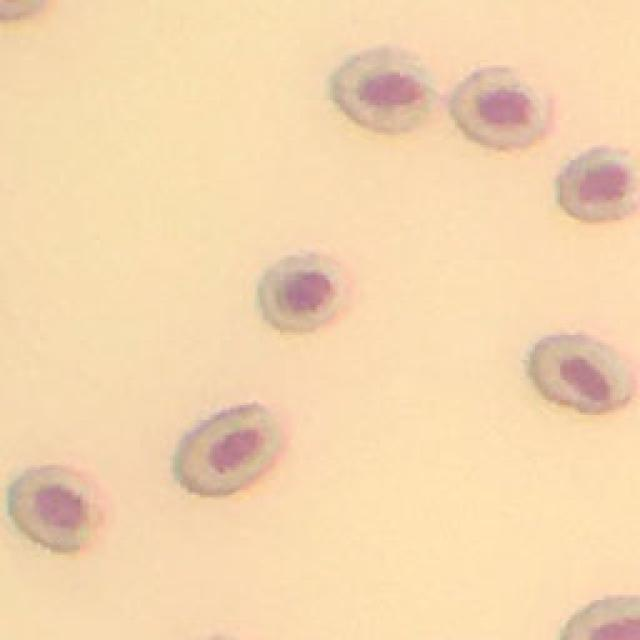RBC: (171, 408, 279, 496), (334, 43, 437, 135), (13, 466, 111, 549), (454, 68, 554, 149), (530, 335, 629, 412), (259, 254, 351, 335), (558, 147, 640, 219)
